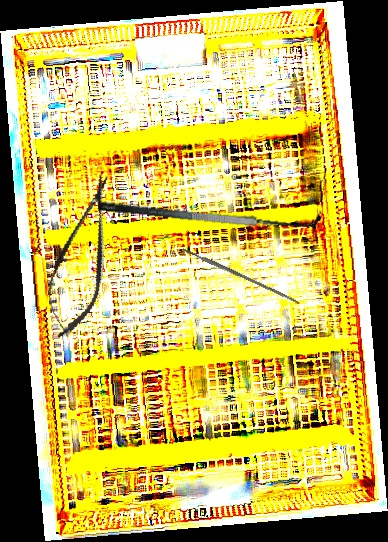Micro Scissor: (35, 168, 129, 344)
Scalpel Handle: (181, 246, 301, 305)
Spatula Surgical: (96, 182, 322, 240)
